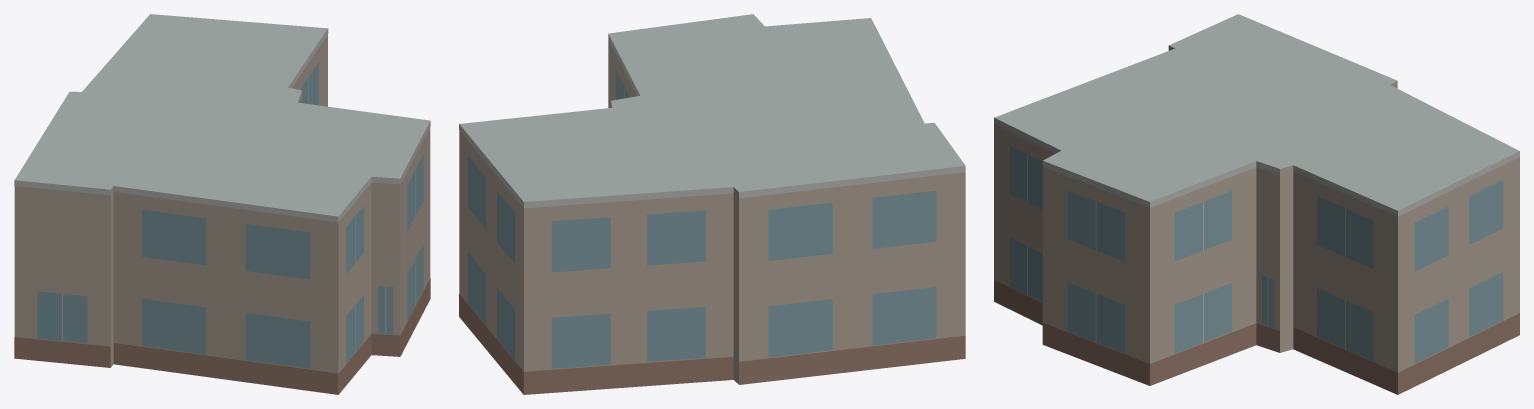
Rendered from survey-upis-32638046.glb.
The picture shows the model from 3 angles, left to right: view 1: azimuth 30°, elevation 25°; view 2: azimuth 150°, elevation 25°; view 3: azimuth 270°, elevation 25°; orthographic projection. The views are drawn at different scales.
Visible parts, largest first — view 1: survey-upis-32638046.tmp; view 2: survey-upis-32638046.tmp; view 3: survey-upis-32638046.tmp.
Boxes of the visible parts, box(x1,y1,x2,y2) form: survey-upis-32638046.tmp: box(14, 14, 430, 394); survey-upis-32638046.tmp: box(459, 14, 965, 394); survey-upis-32638046.tmp: box(994, 14, 1519, 394).
Bounding box in the file's own units: 17.22 × 7.5 × 19.43.
